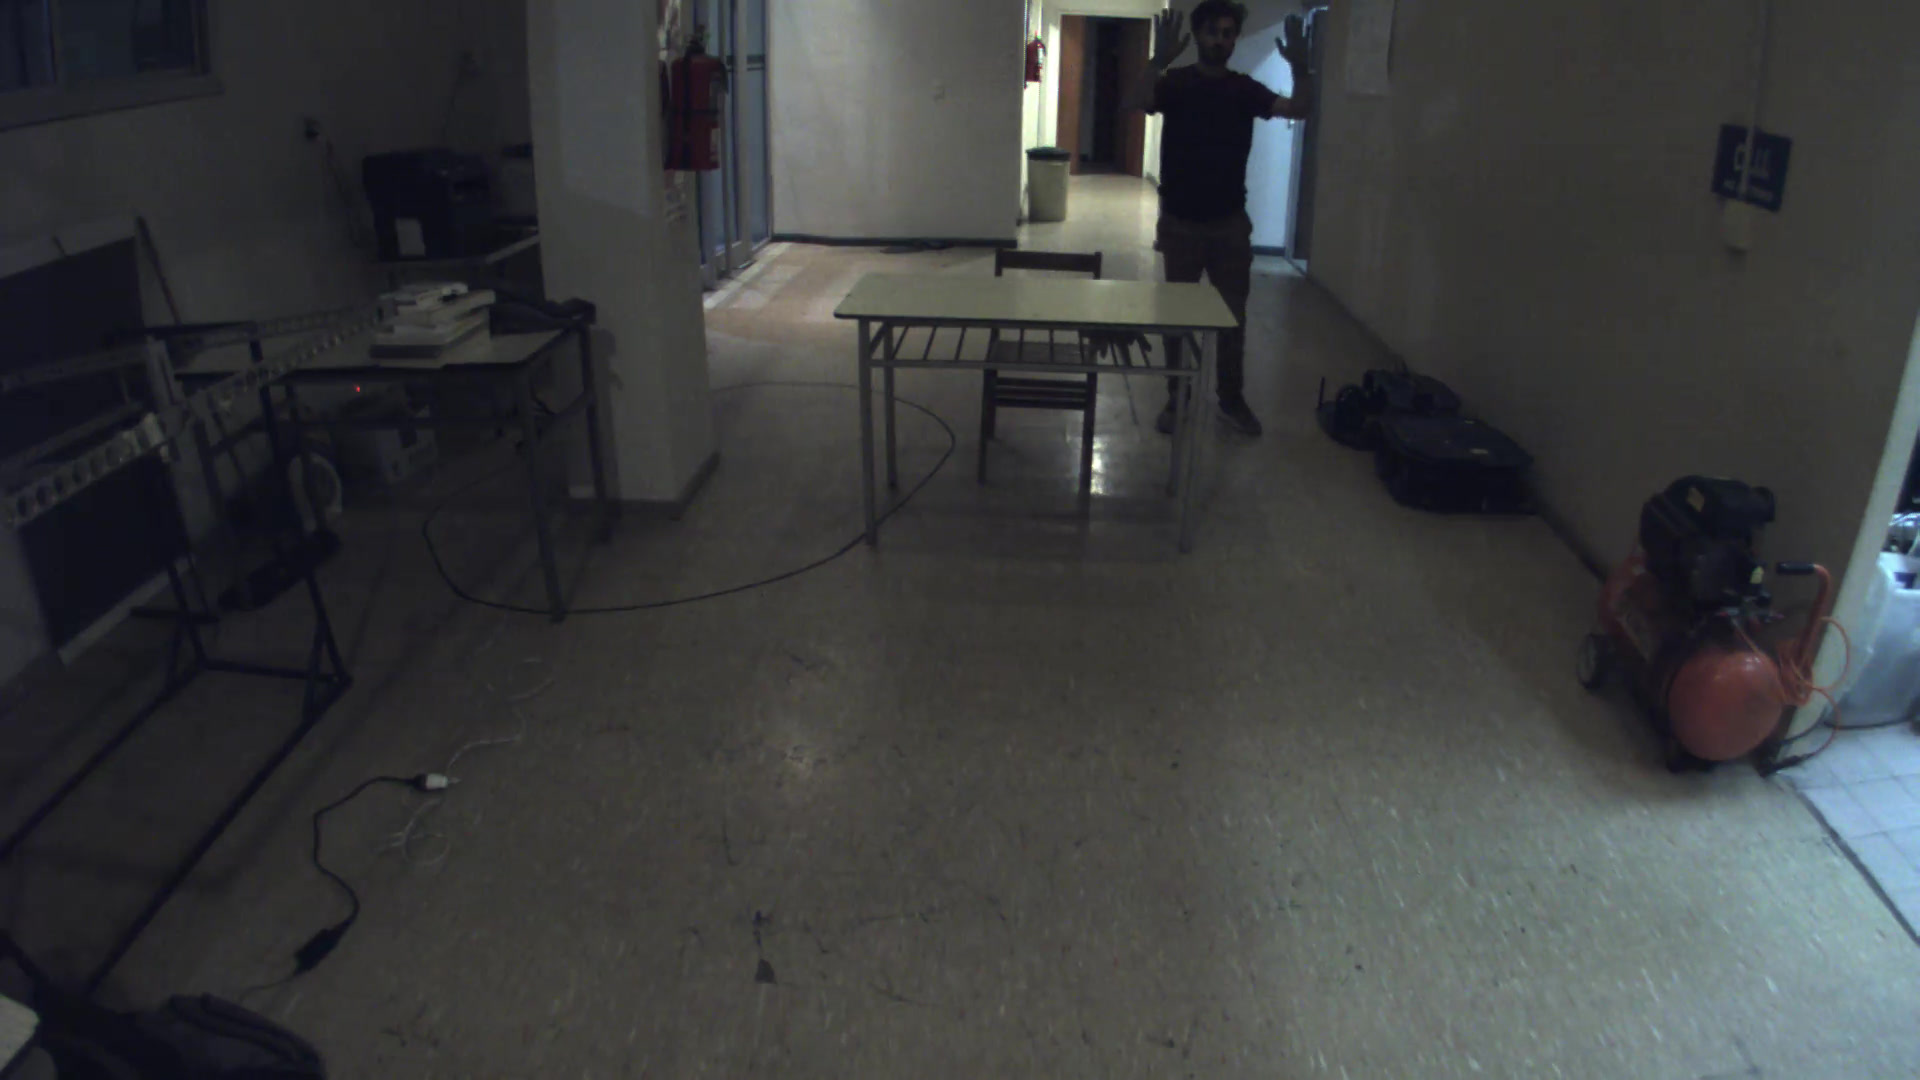hand: (1255, 8, 1327, 83), (1153, 8, 1203, 76)
